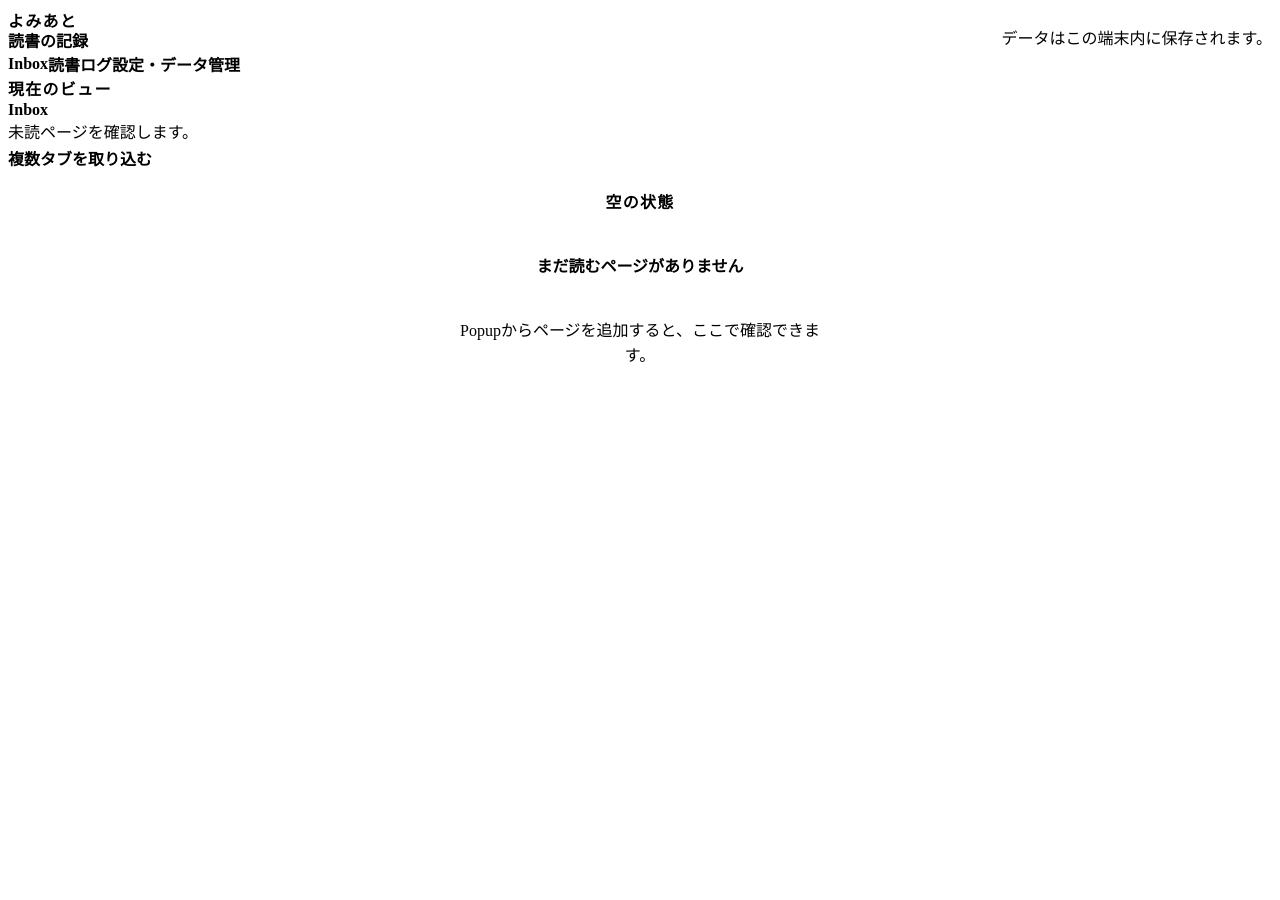
Test: 工程7の複数タブ取り込み › 開くと内部へフォーカスし、Escapeと閉じる操作で起点へ戻る
Click the button "複数タブを取り込む" at (80, 158), box [8,146,152,170]
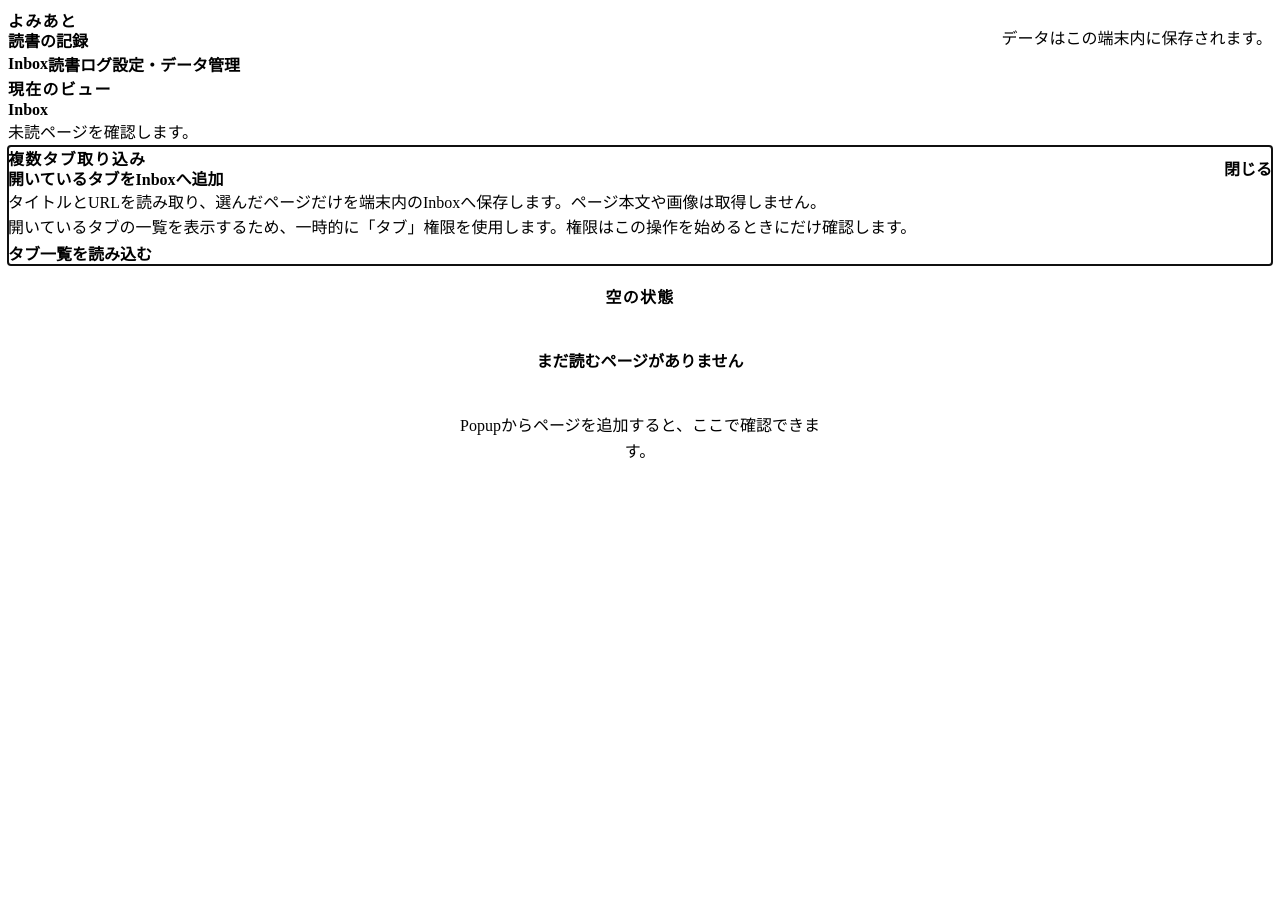
Press Escape
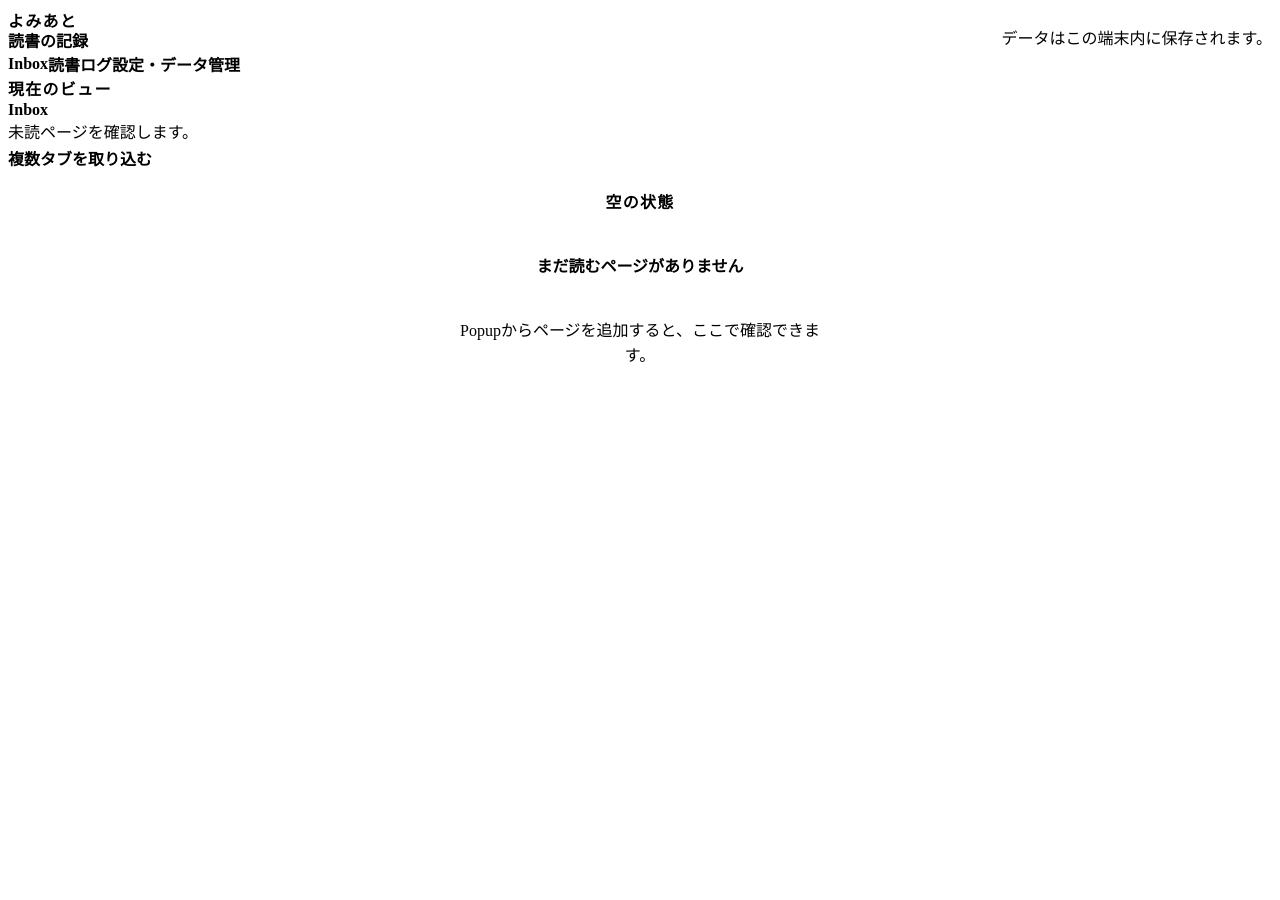
Check: the dialog is gone
Click the button "複数タブを取り込む" at (80, 158), box [8,146,152,170]
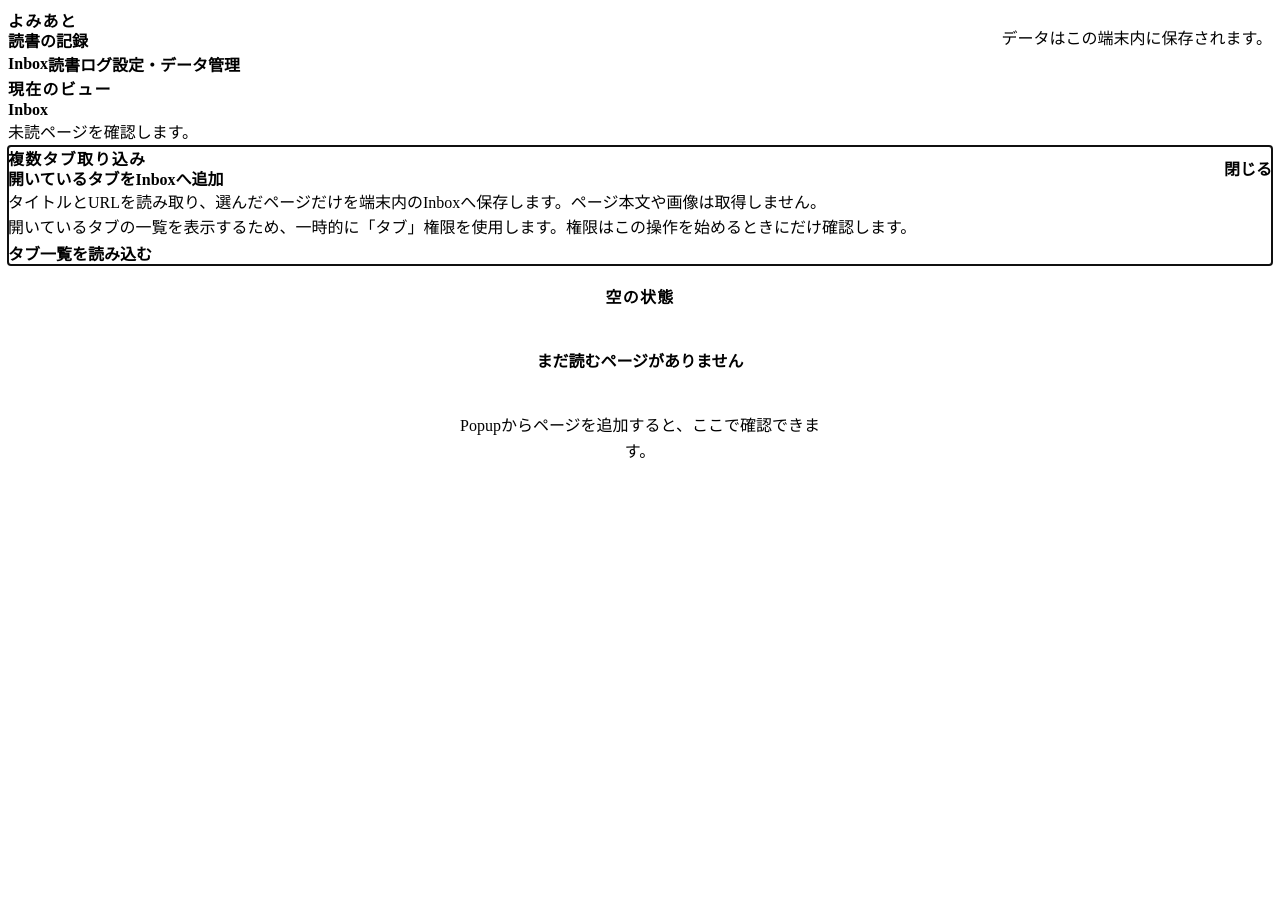
Click the button "閉じる" at (1248, 168), box [1224,156,1272,180]
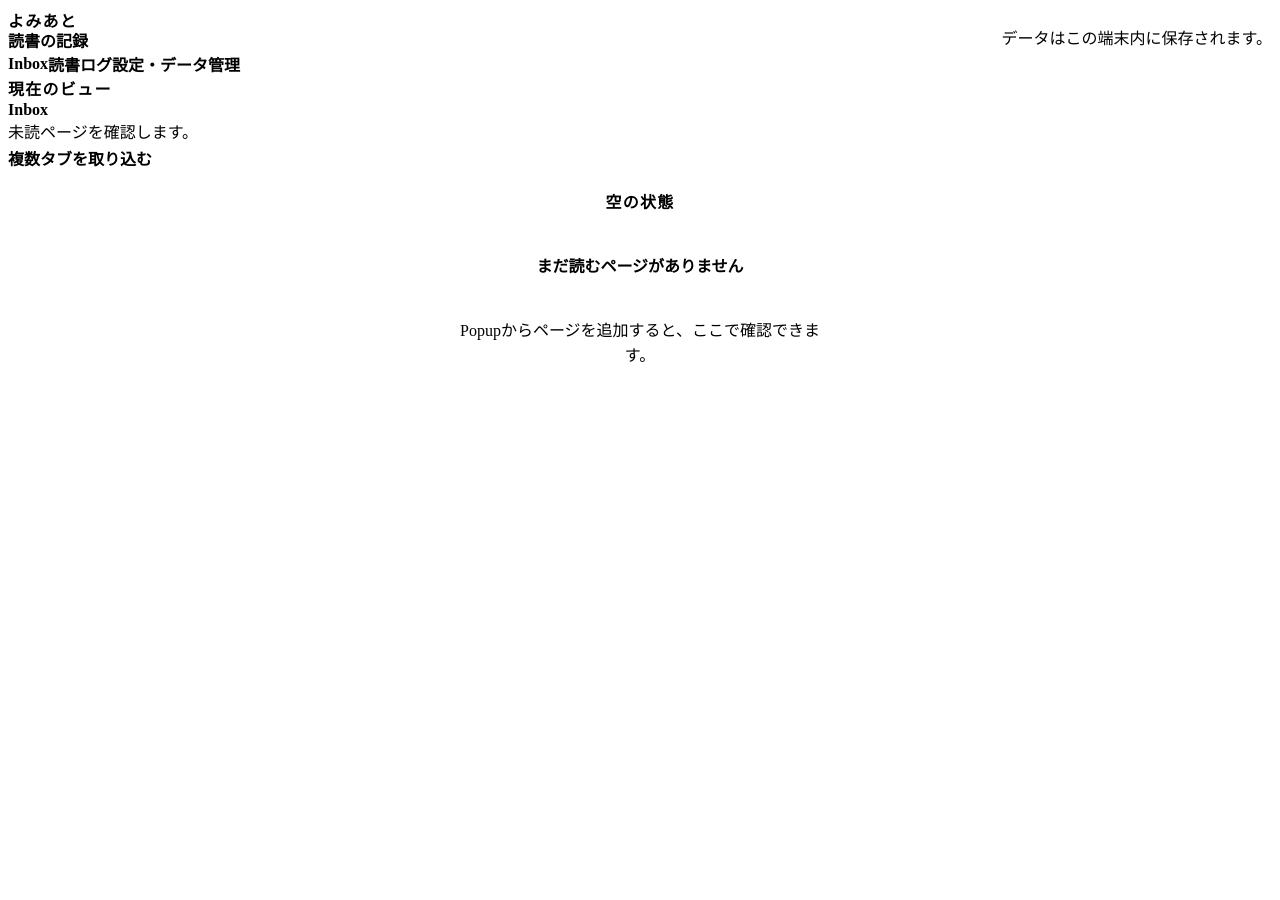
Check: the dialog is gone
